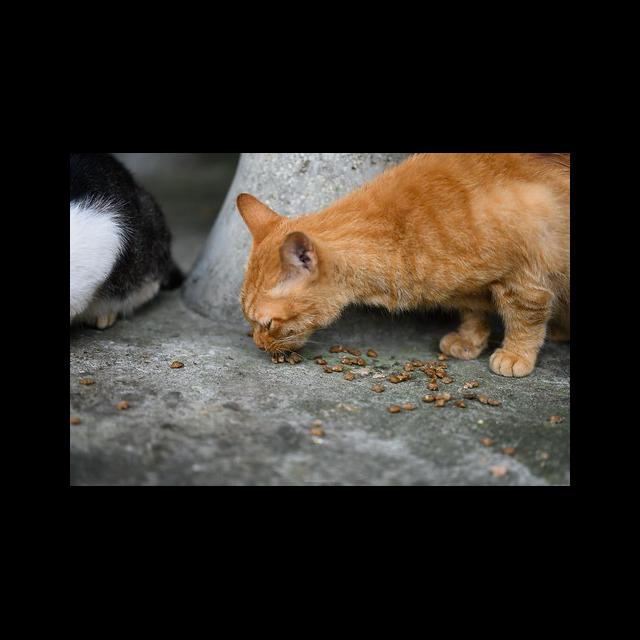animals: (235, 154, 570, 378), (70, 154, 187, 332)
